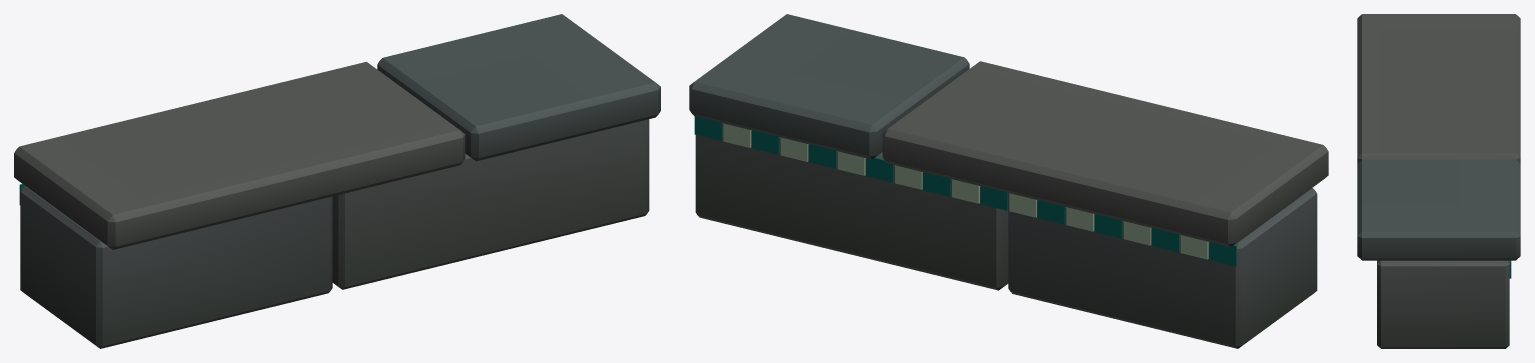
The model's file is pond-edge-straight.glb.
3 renders of one model, left to right at view 1: azimuth 30°, elevation 25°; view 2: azimuth 150°, elevation 25°; view 3: azimuth 270°, elevation 25°, orthographic. The views are drawn at different scales.
Parts seen in each view (by area): view 1: pond-edge-straight-cap, pond-edge-straight-wall; view 2: pond-edge-straight-cap, pond-edge-straight-wall, pond-edge-straight-glaze; view 3: pond-edge-straight-cap, pond-edge-straight-wall.
Boxes of the visible parts, bbox=[...] form: pond-edge-straight-cap: bbox=[14, 14, 660, 249]; pond-edge-straight-wall: bbox=[20, 119, 649, 348]; pond-edge-straight-cap: bbox=[689, 14, 1328, 246]; pond-edge-straight-wall: bbox=[695, 123, 1317, 348]; pond-edge-straight-glaze: bbox=[694, 116, 1236, 266]; pond-edge-straight-cap: bbox=[1357, 14, 1520, 260]; pond-edge-straight-wall: bbox=[1377, 260, 1509, 348].
Bounding box in the file's own units: 1.19 × 0.292 × 0.37.
